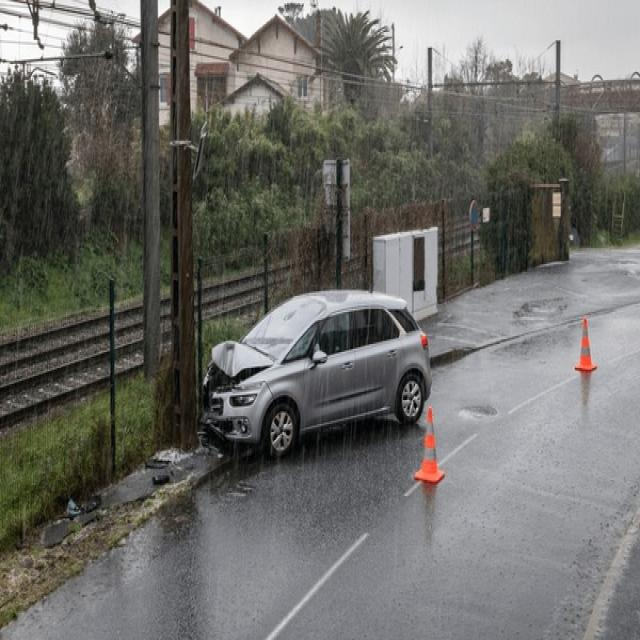Accident: (192, 286, 433, 457)
